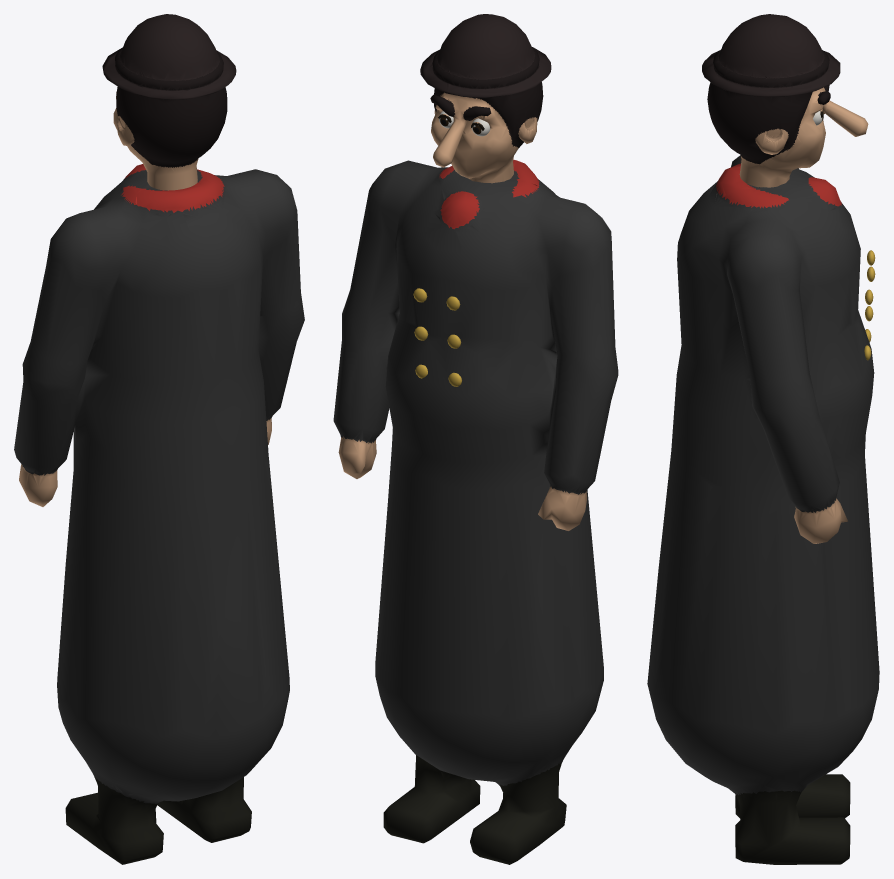
Rendered from boevl-4.glb.
3 views of the same model, side by side, from view 1: azimuth 30°, elevation 25°; view 2: azimuth 150°, elevation 25°; view 3: azimuth 270°, elevation 25° (orthographic).
Parts seen in each view (by area): view 1: body_lod0, head_lod0; view 2: body_lod0, head_lod0; view 3: body_lod0, head_lod0.
Boxes of the visible parts, x1=… form: body_lod0: x1=14, y1=164, x2=304, y2=864; head_lod0: x1=102, y1=14, x2=236, y2=190; body_lod0: x1=333, y1=159, x2=618, y2=864; head_lod0: x1=420, y1=14, x2=551, y2=183; body_lod0: x1=647, y1=155, x2=879, y2=864; head_lod0: x1=702, y1=14, x2=868, y2=187.
Size of what is drawn, in the model's own units: 0.8614 by 2.48 by 0.635.
